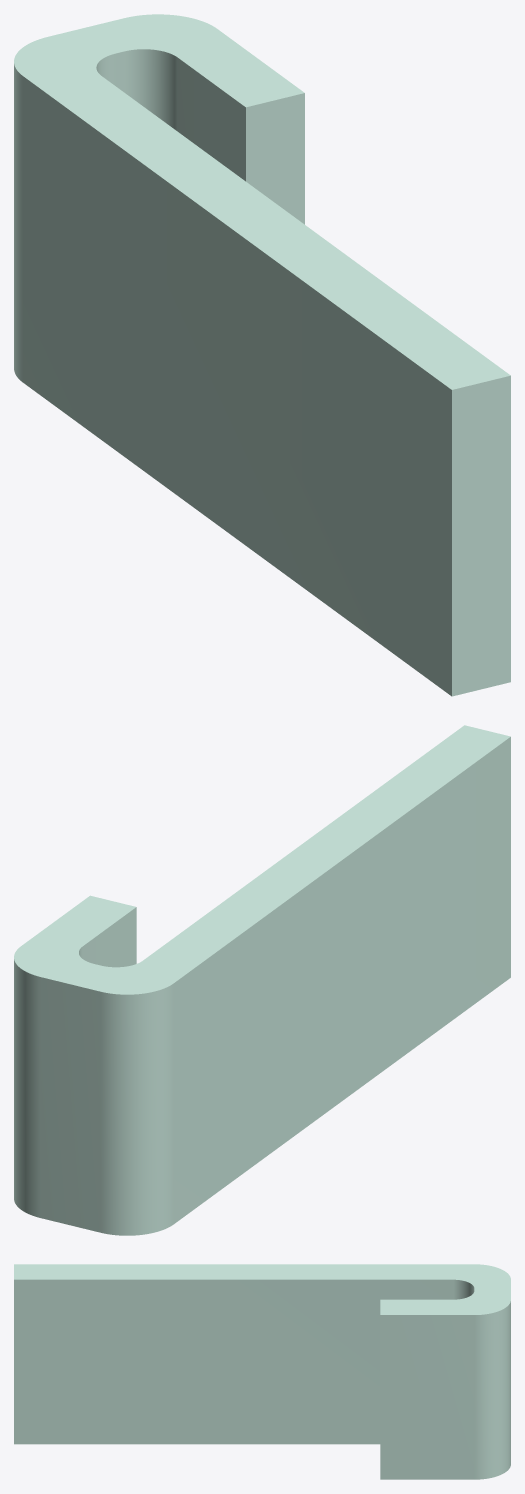
The picture shows the model from 3 angles, top to bottom: view 1: azimuth 30°, elevation 25°; view 2: azimuth 150°, elevation 25°; view 3: azimuth 270°, elevation 25°; orthographic projection. The views are drawn at different scales.
Visible parts, largest first — view 1: Renderer Node; view 2: Renderer Node; view 3: Renderer Node.
Part boxes in pixels (x1,y1,x2,y2): Renderer Node: (14, 14, 510, 696); Renderer Node: (14, 725, 510, 1235); Renderer Node: (14, 1264, 510, 1479).
Size of the model in its own units: 0.1967 by 0.2969 by 0.8125.
